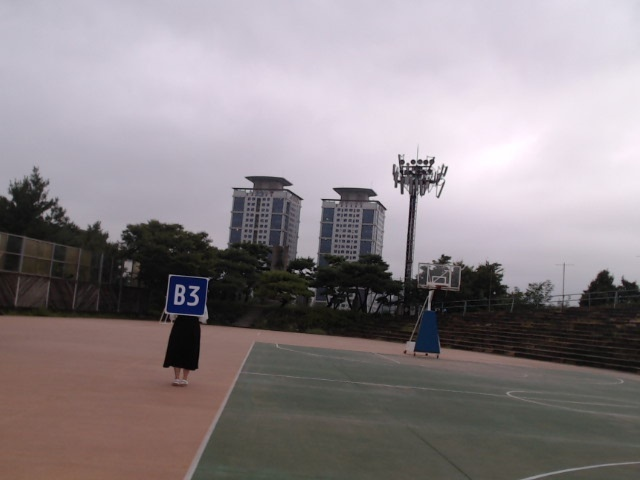delivery_b3: (165, 272, 209, 317)
